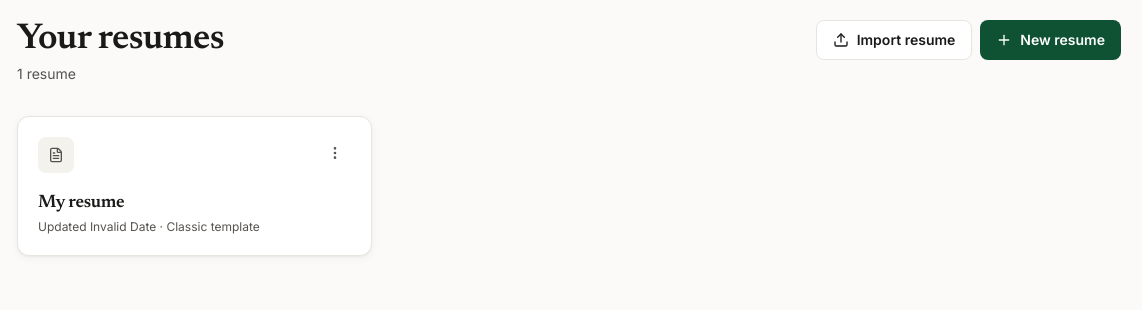
it: DashboardPage › falls back to a generic message when the error has no detail
Click the button "New resume".
click(1051, 40)  # box left=980, top=20, right=1121, bottom=60
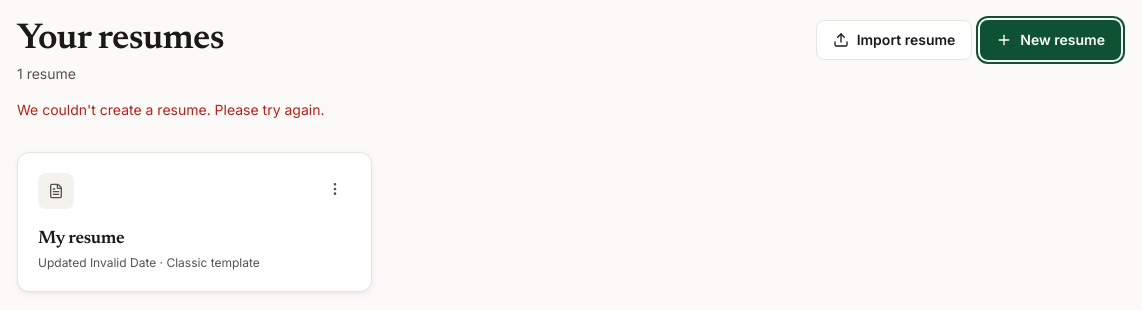
Result: the message reads "We couldn't create a resume. Please try again." at left=17, top=101, right=324, bottom=118
